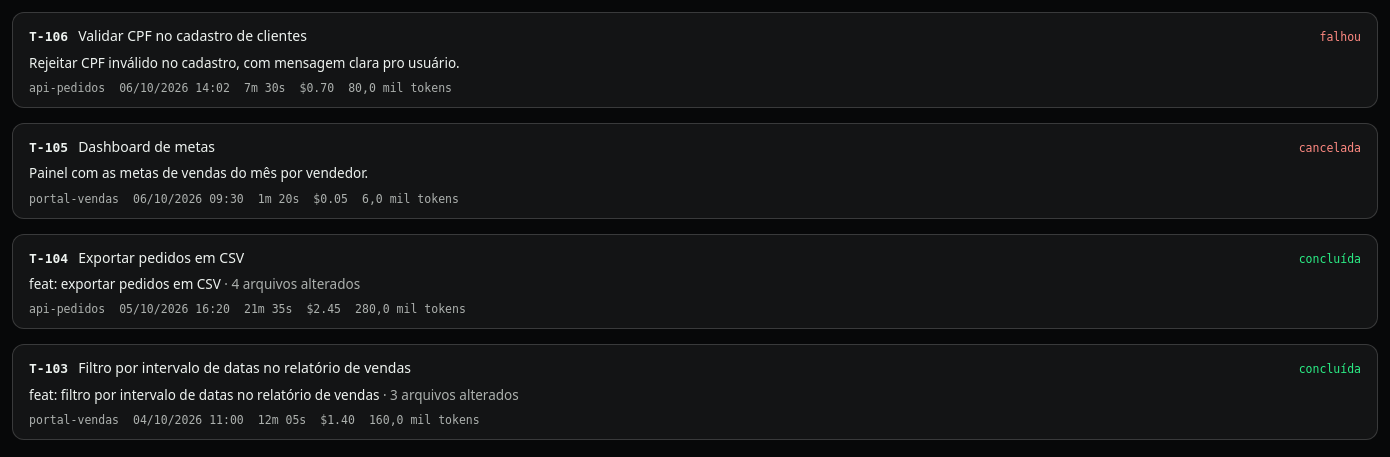
Test: HistoryList › tarefa sem resultado (falhou) avisa que não há alterações
Click the button "Validar CPF no cadastro de clientes".
click(193, 36)  # box [78,25,1309,46]
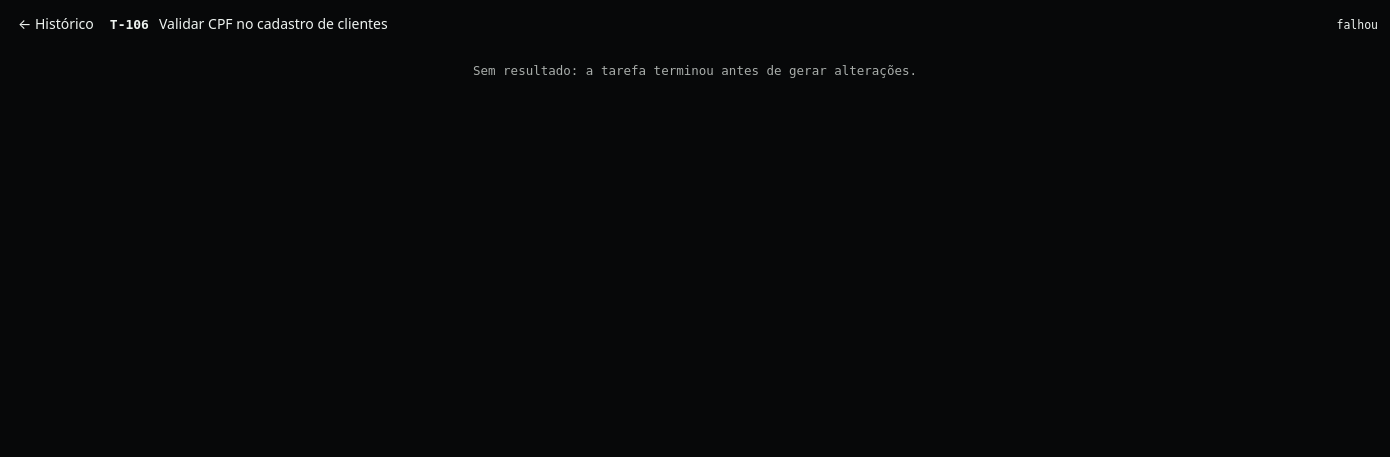
Expected: the text "Sem resultado: a tarefa terminou antes de gerar alterações." is shown, [473,63,917,78]
